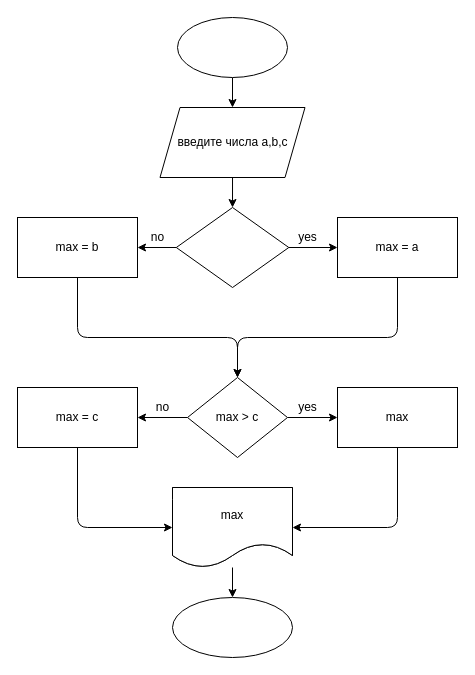
Image size: 475x675. Some labels were removed from this diagram. Here are the shapes that lost their labels. From the top down, the centre of each, then its label:
At (232,47): "начало".
At (232,247): "a > b".
At (232,627): "end".
